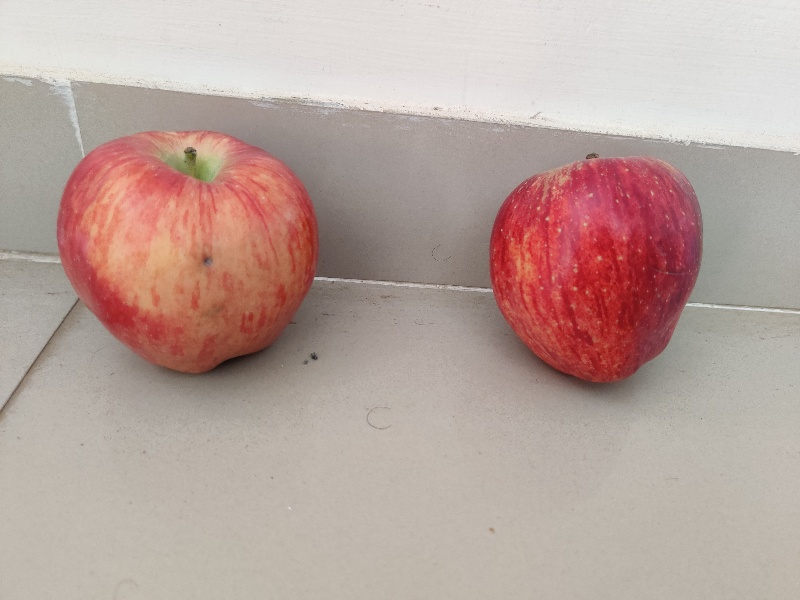apple: (57, 121, 333, 368), (481, 139, 716, 387)
